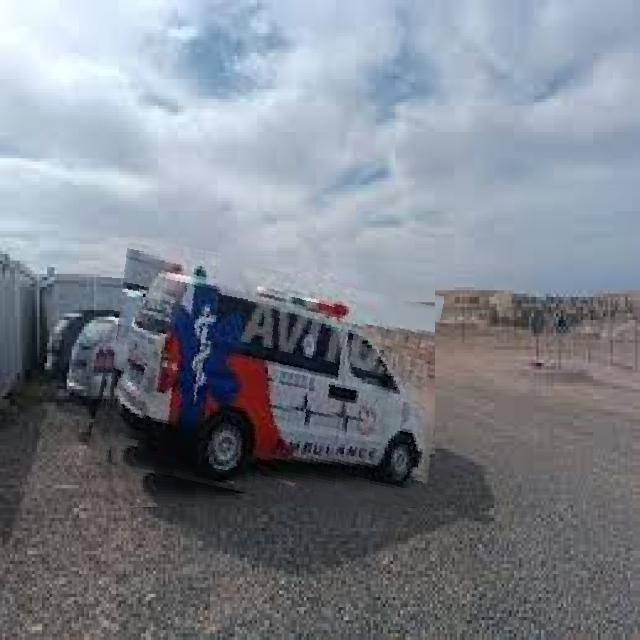ambulance: (96, 250, 435, 507)
